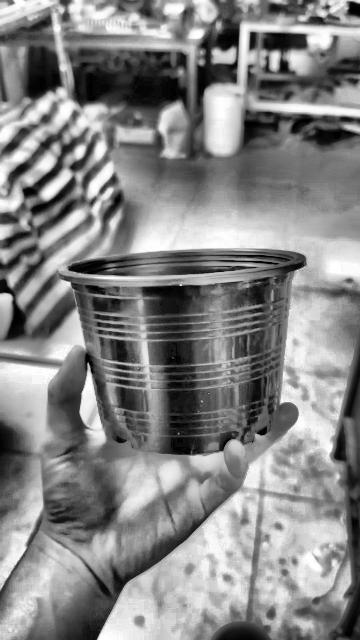pot: (59, 249, 305, 455)
